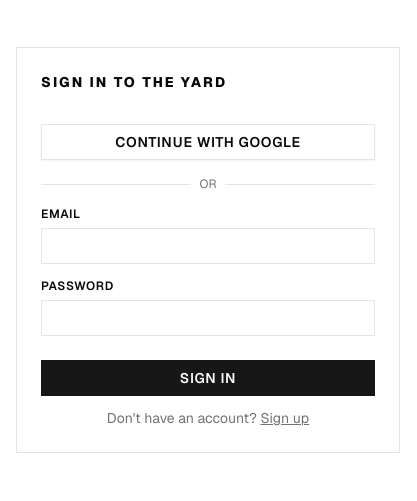
LoginPage › validates empty email
The width and height of the screenshot is (417, 501).
Type "password123" into the password field labelled "Password" at [208, 318], box [41,300,375,336]
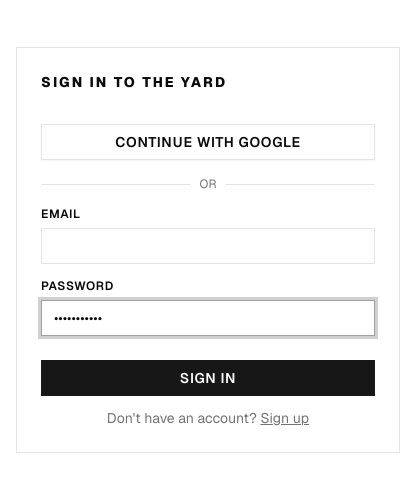
Submit the text "Sign In"
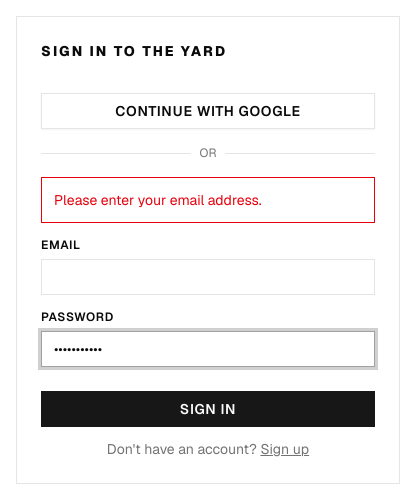
Now the text "Please enter your email address." is shown, box [41,177,375,223]
